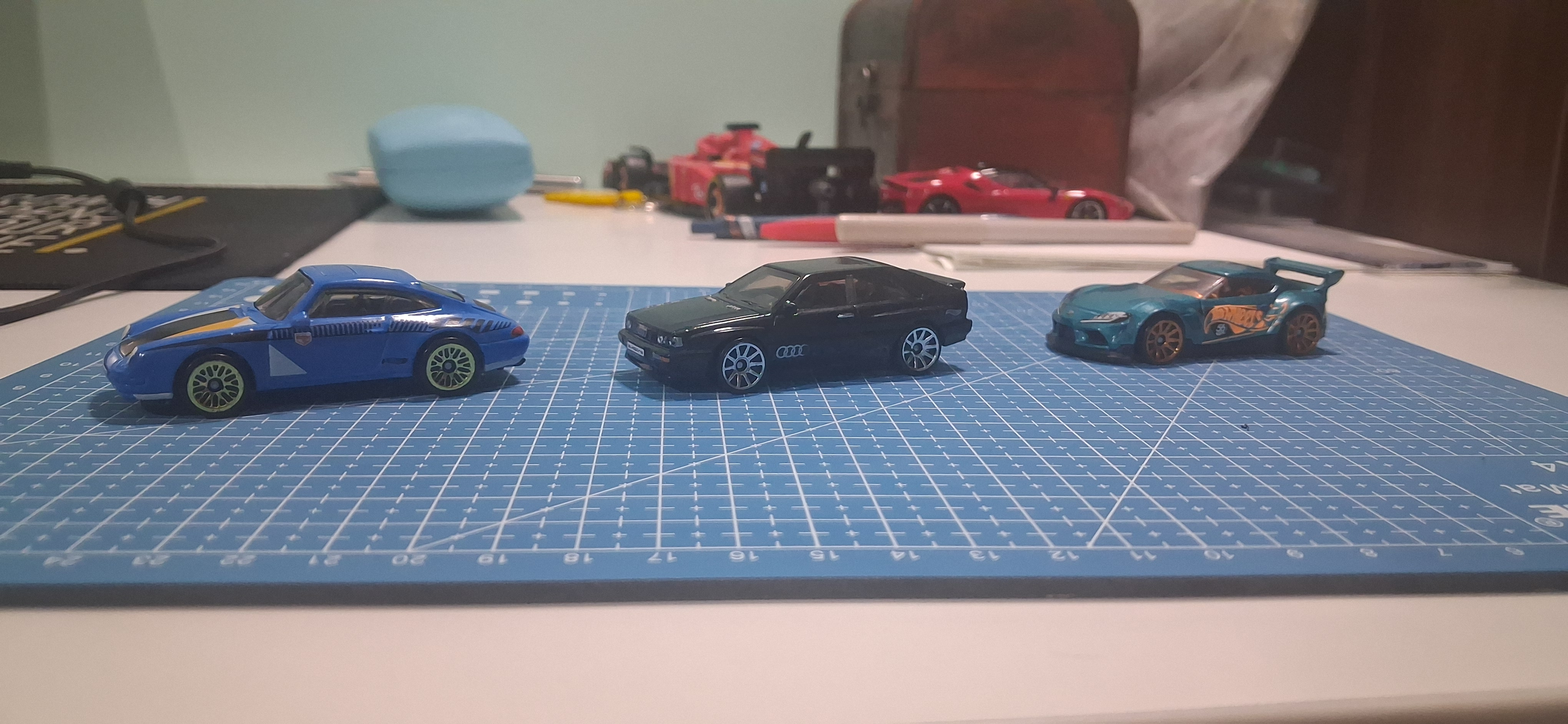Audi_Quattro: (591, 232, 1011, 423)
Porsche_Carrera: (66, 236, 559, 422)
Toyota_GR_Supra: (1036, 215, 1392, 374)
